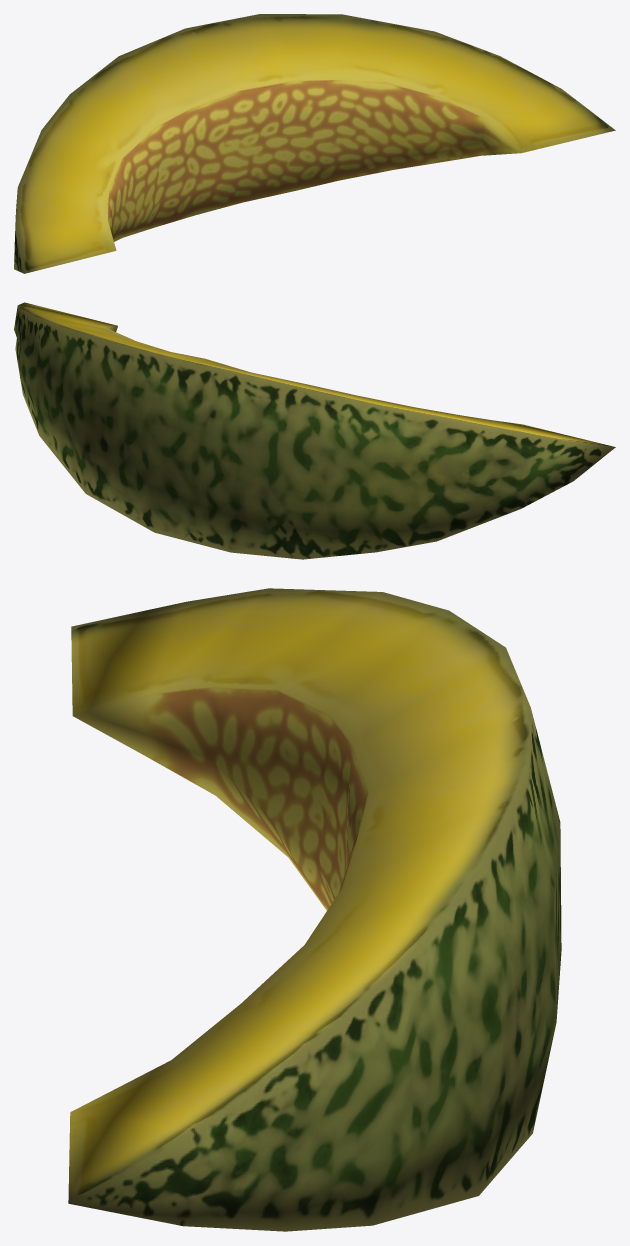
File: MelonB.glb
3 views of the same model, one above another, from view 1: azimuth 30°, elevation 25°; view 2: azimuth 150°, elevation 25°; view 3: azimuth 270°, elevation 25° (orthographic). The views are drawn at different scales.
Parts seen in each view (by area): view 1: MelonB_Melon_0; view 2: MelonB_Melon_0; view 3: MelonB_Melon_0.
Part boxes in pixels (x1,y1,x2,y2): MelonB_Melon_0: (14, 14, 615, 273); MelonB_Melon_0: (14, 302, 615, 559); MelonB_Melon_0: (68, 588, 561, 1231).
Bounding box in the file's own units: 1.03 × 0.3005 × 0.374.
Materials: 1 (1 with a texture image).
